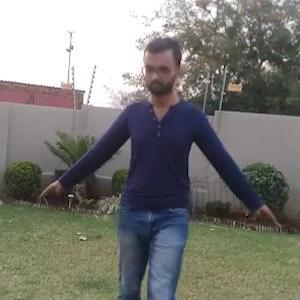land: (44, 57, 272, 299)
